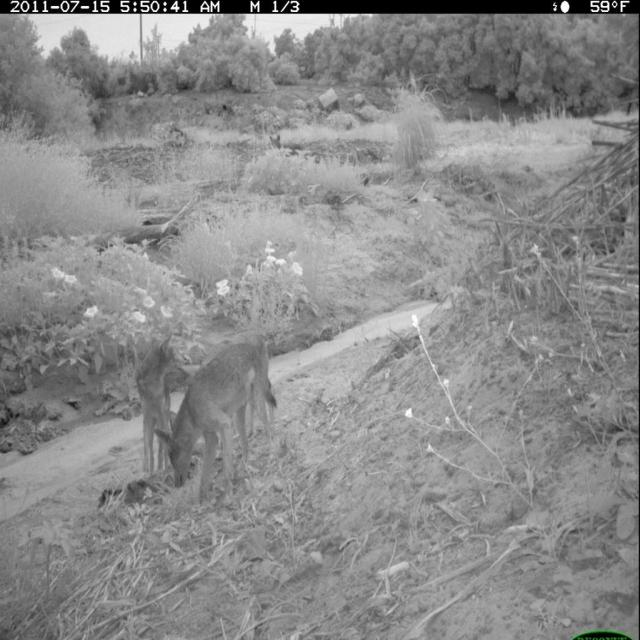coyote: (152, 326, 281, 506), (121, 331, 177, 476)
